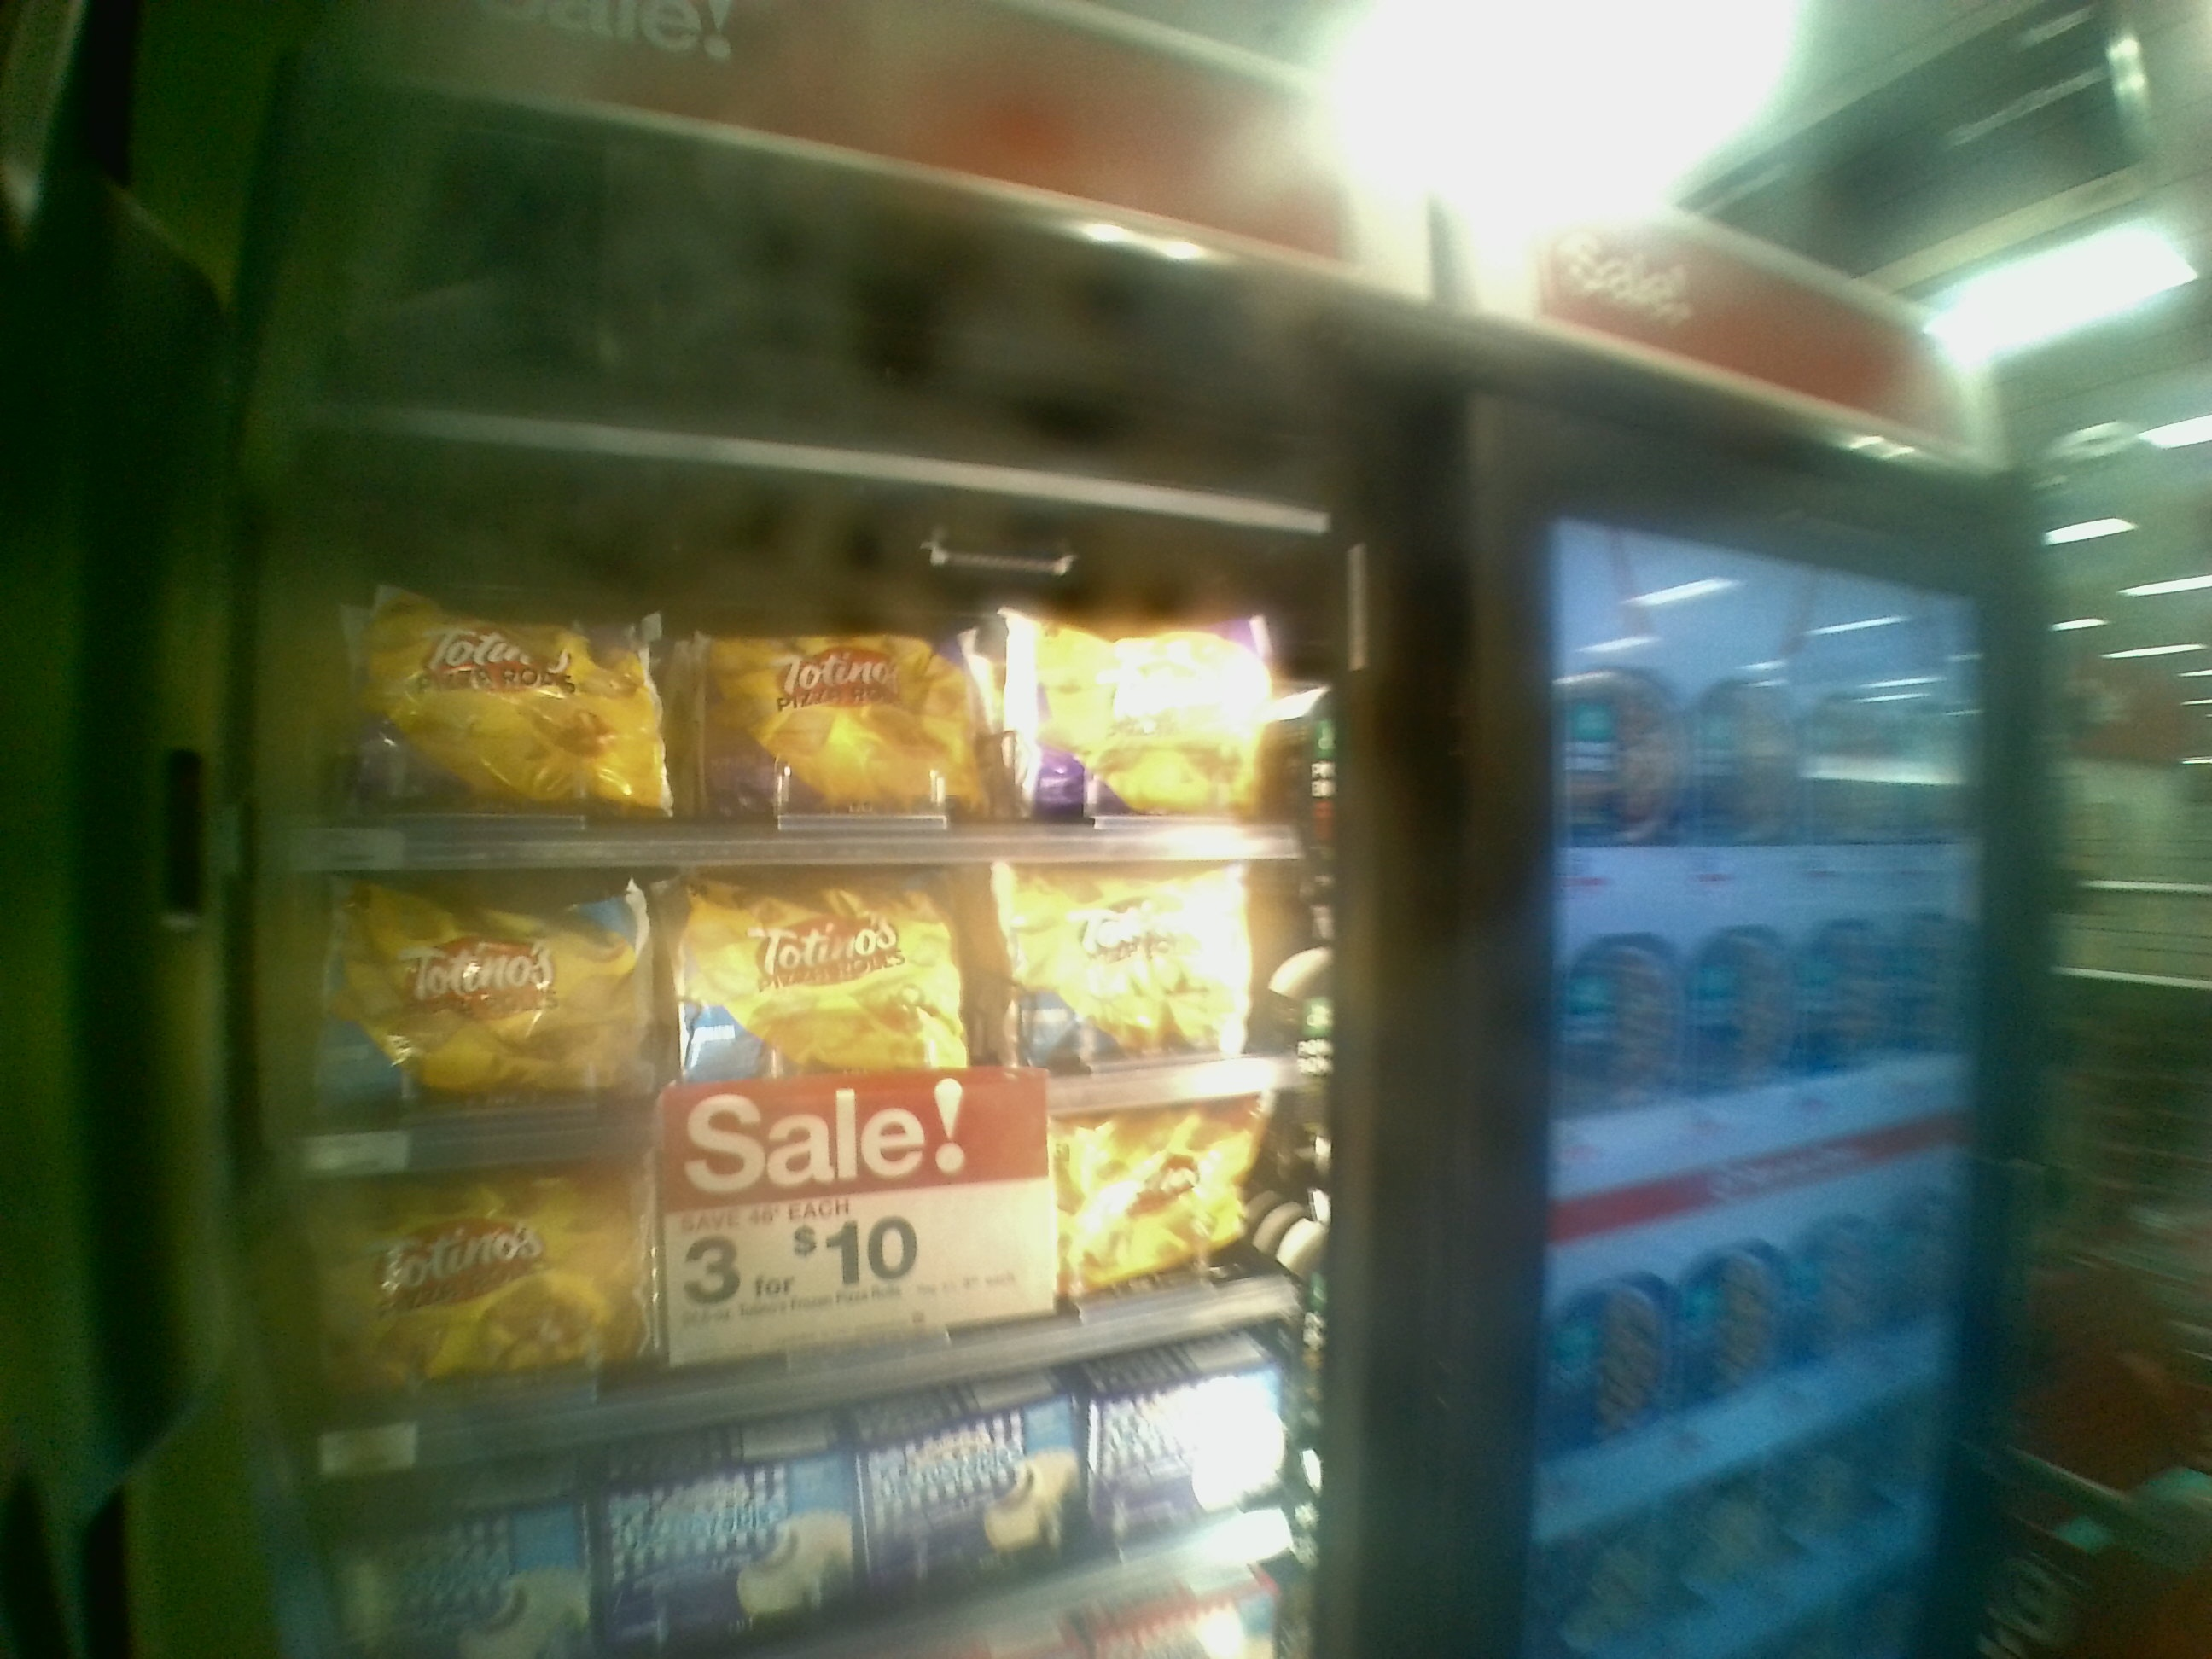shelf: (291, 1154, 1325, 1436), (275, 861, 1318, 1134)
